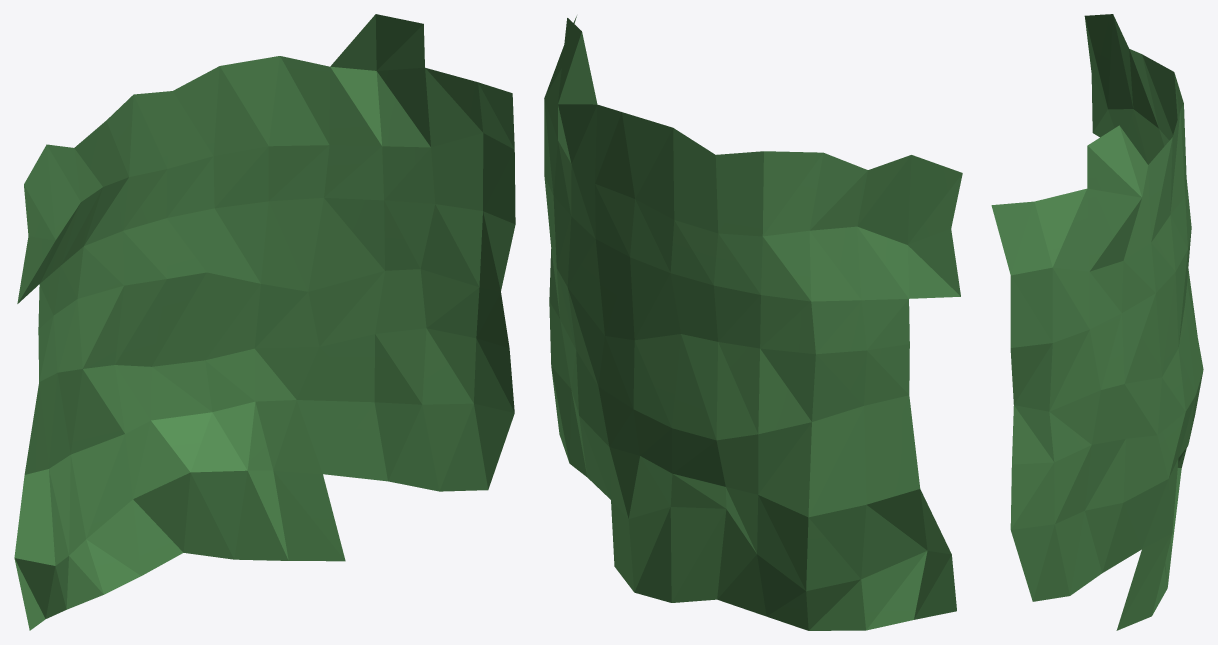
Rendered from Map_prop_04.FBX.
The picture shows the model from 3 angles, left to right: view 1: azimuth 30°, elevation 25°; view 2: azimuth 150°, elevation 25°; view 3: azimuth 270°, elevation 25°; orthographic projection. The views are drawn at different scales.
Visible parts, largest first — view 1: Map_prop_04; view 2: Map_prop_04; view 3: Map_prop_04.
Part boxes in pixels (x1,y1,x2,y2): Map_prop_04: (14,14,515,630); Map_prop_04: (544,16,962,630); Map_prop_04: (991,14,1203,630).
Size of the model in its own units: 8.92 by 10.15 by 3.72.
